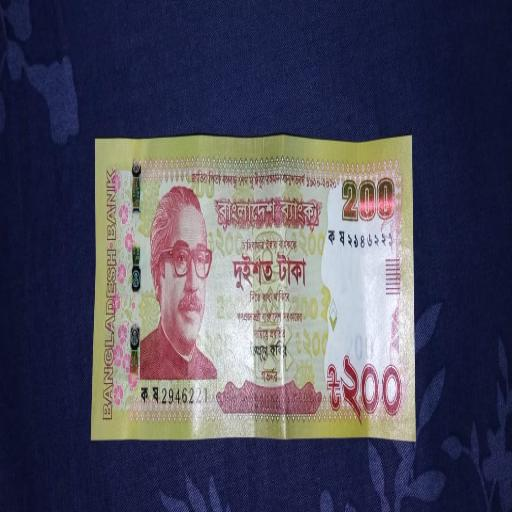200taka: (90, 137, 416, 439)
